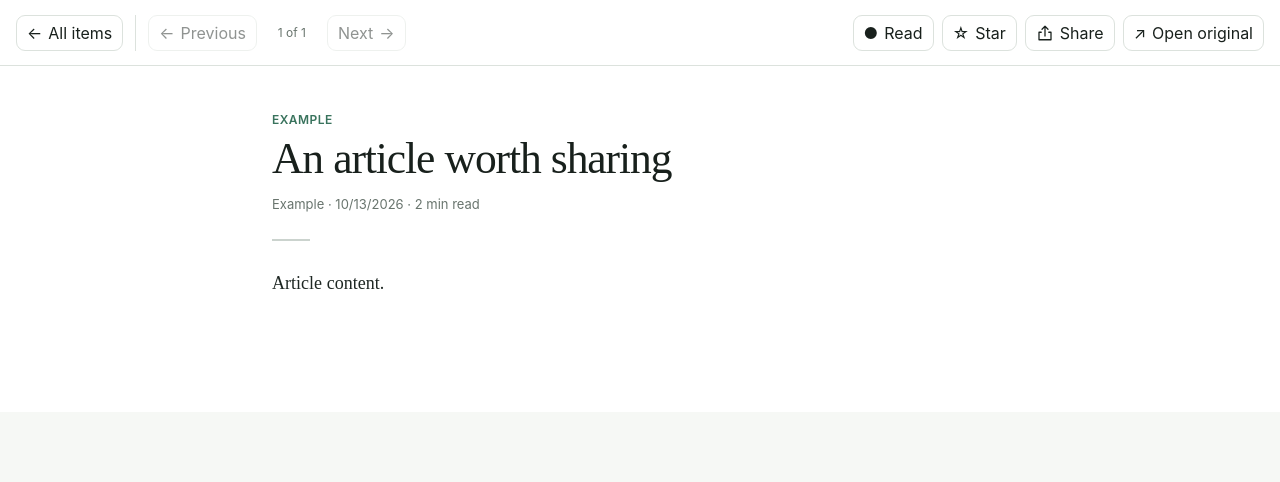
Test: article sharing › keeps the selectable link available when clipboard access is denied
This screenshot has width=1280, height=482.
Click the button with aria-label "Share article" at [1070, 32], box [1025,14,1115,50]
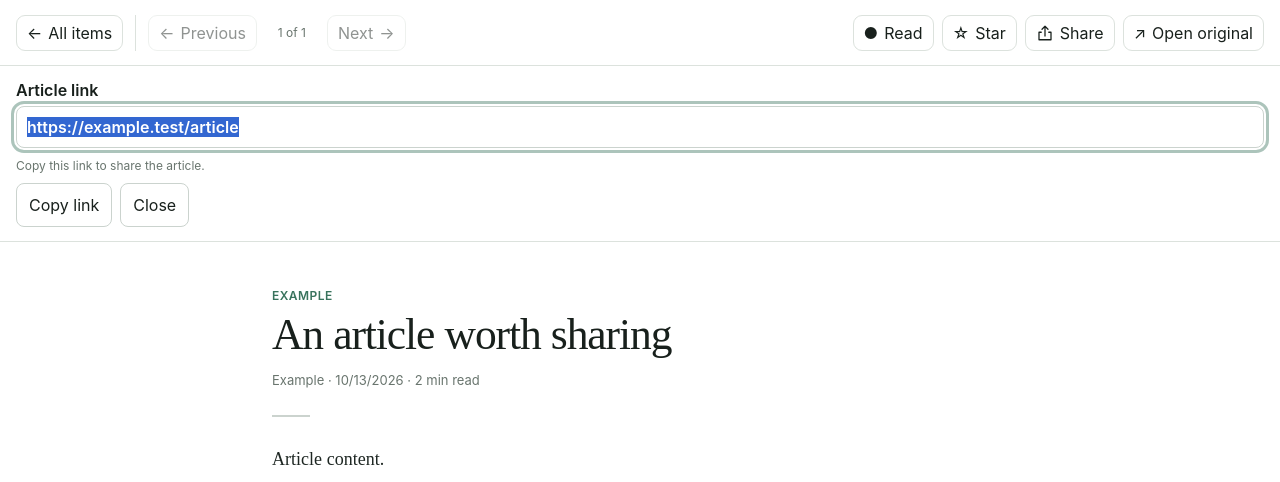
Now the field labelled "Article link" holds "https://example.test/article", box [16,106,1264,148]
